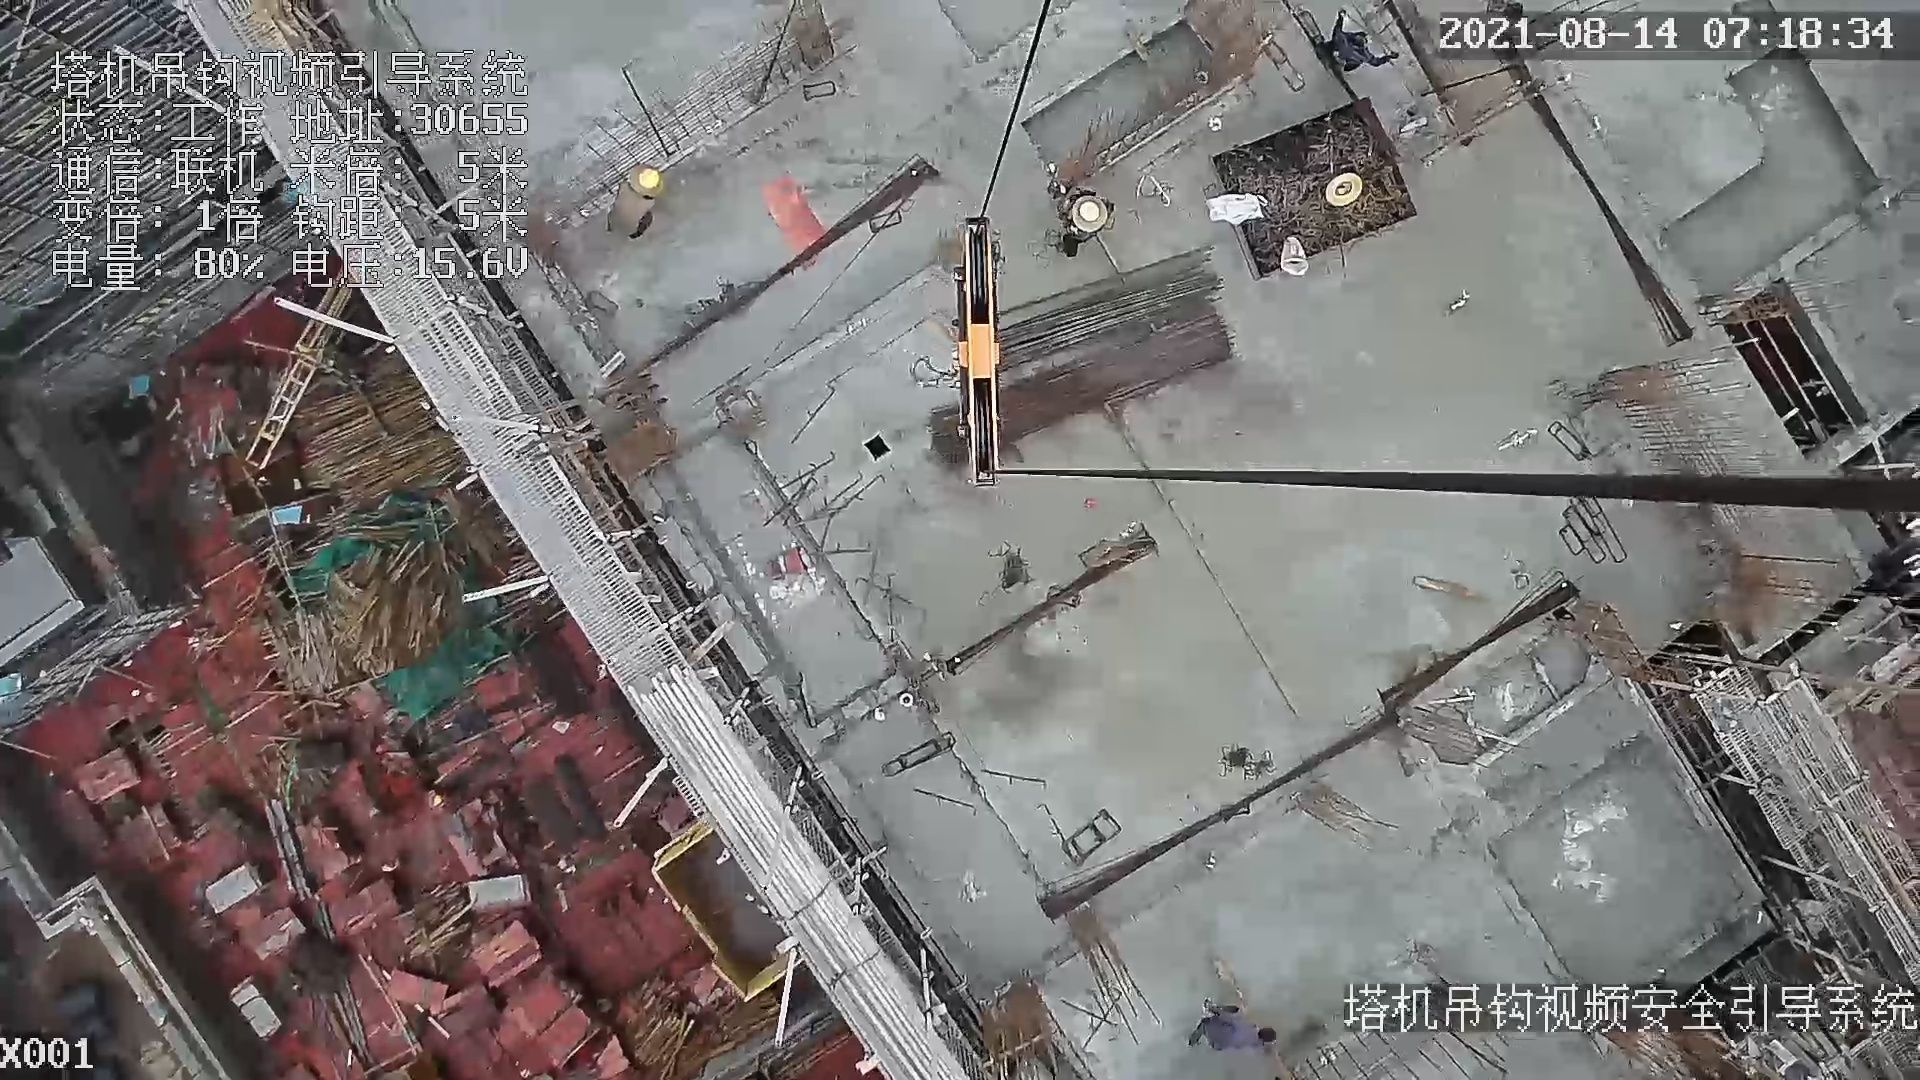helmet: (634, 164, 662, 193), (1075, 200, 1104, 224)
hook: (929, 209, 1006, 494)
person: (1322, 15, 1400, 83), (1051, 187, 1118, 259)
